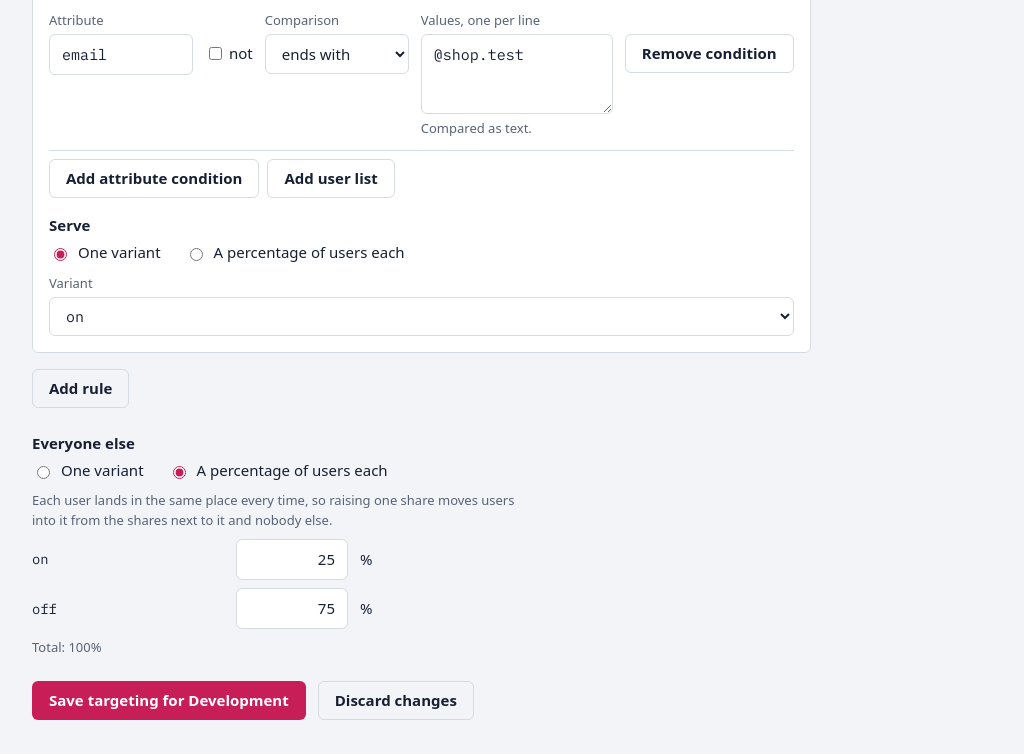
Test: editing targeting › points at what is wrong without sending anything
The image size is (1024, 754).
(page scrolled)
Replace the text in the field labelled "off" with "70" at (292, 608), box x1=236 y1=588 x2=348 y2=629
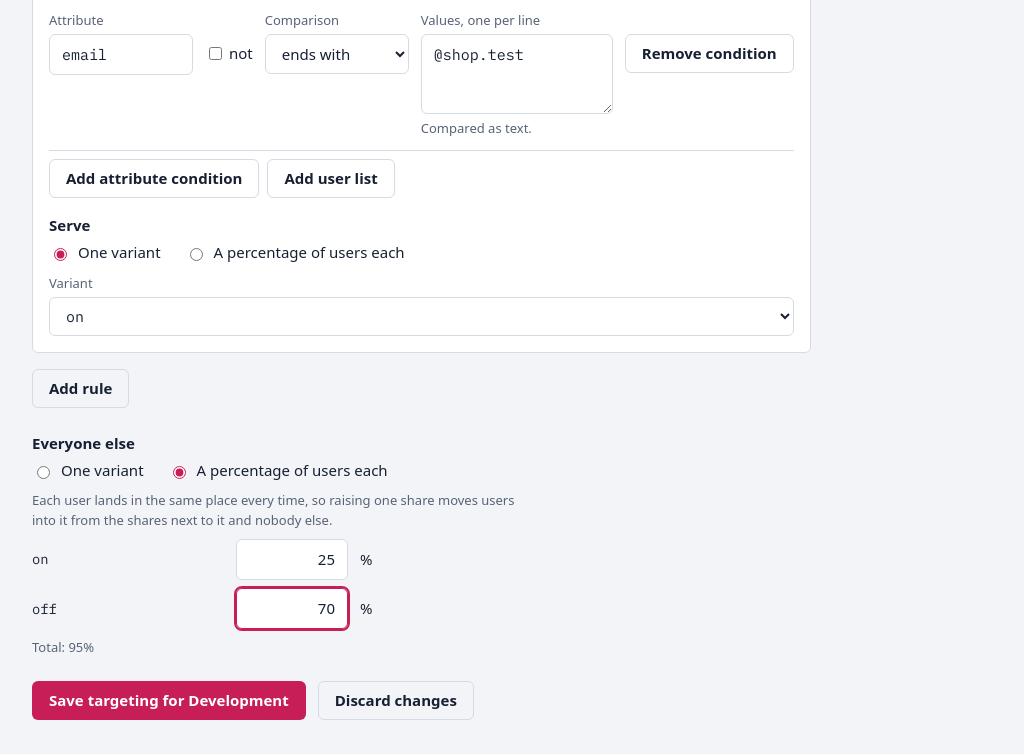
Click the button "Save targeting for Development" at (169, 701), box x1=32 y1=681 x2=306 y2=720
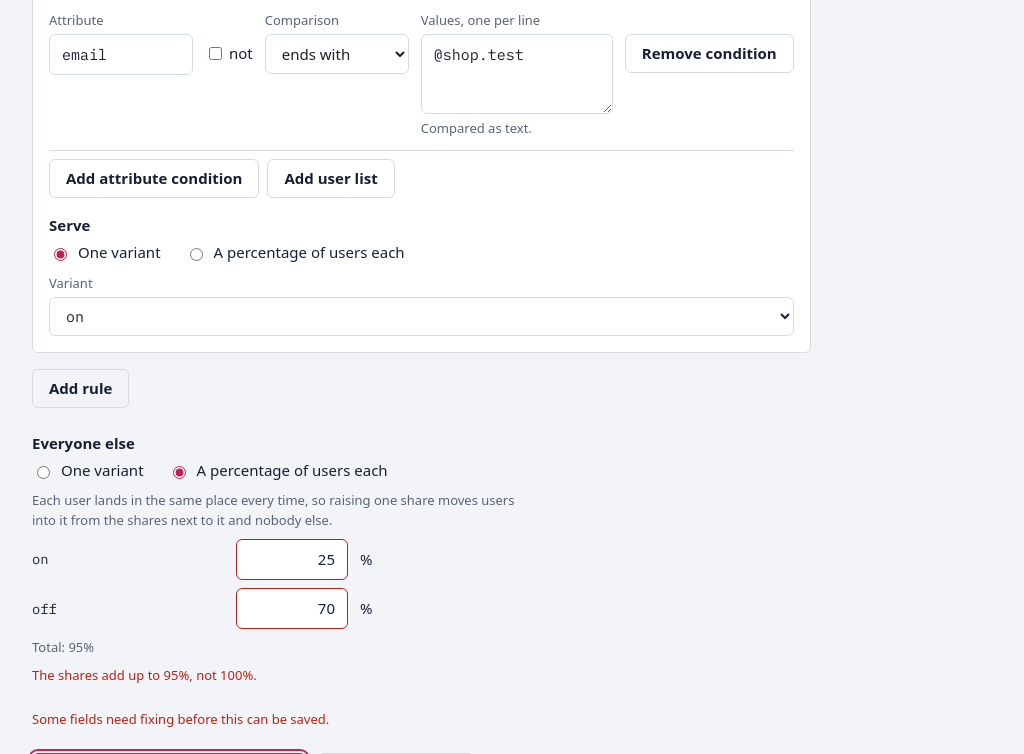
Result: the text "The shares add up to 95%, not 100%." is shown at x1=32 y1=666 x2=257 y2=684
Result: the message shows "Some fields need fixing" at x1=32 y1=710 x2=329 y2=728
